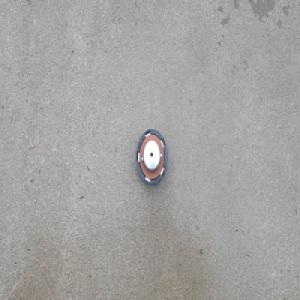FuelCap: (135, 127, 168, 187)
